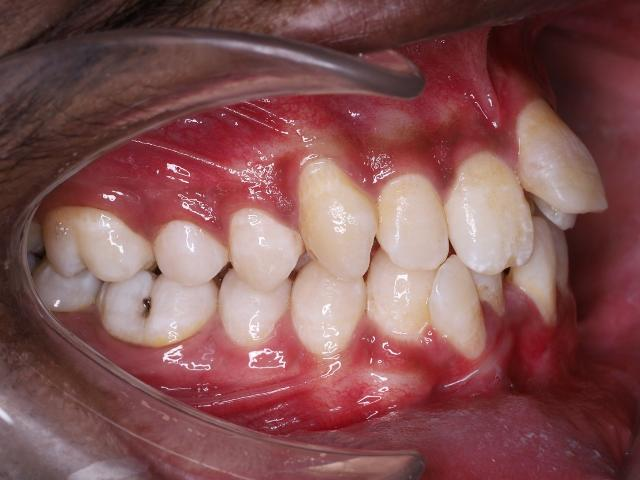canine class III 1/4: (284, 154, 434, 356)
molar class III 3/4: (41, 205, 218, 352)
